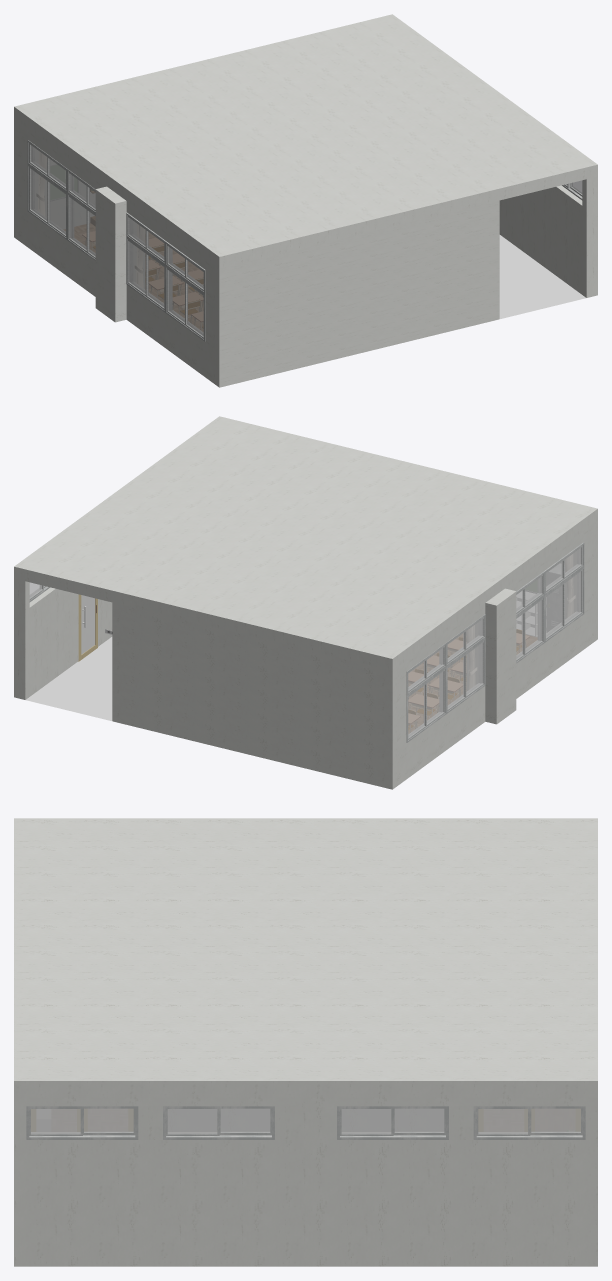
Rendered from classroom1.fbx.
The picture shows the model from 3 angles, top to bottom: view 1: azimuth 30°, elevation 25°; view 2: azimuth 150°, elevation 25°; view 3: azimuth 270°, elevation 25°; orthographic projection. The views are drawn at different scales.
Parts seen in each view (by area): view 1: classroom.hallway.ceiling, classroom.wall.back, classroom.hallway.ceiling.001, classroom.wall.window, wall.hallway, classroom.hallway.floor, classroom.wall.forward, classRoom.window.sash, classRoom.window.sash.001, classRoom.window.sash.003, window.glass.Large.010, window.glass.Large (+7 smaller); view 2: classroom.hallway.ceiling, classroom.wall.forward, classroom.hallway.ceiling.001, classroom.wall.window, wall.hallway, classroom.hallway.floor, classroom.forwardDoor.L.002, classRoom.window.sash.003, classRoom.window.sash, classRoom.window.sash.002, window.glass.Large.010, window.glass.Large.009 (+10 smaller); view 3: classroom.hallway.ceiling, wall.hallway, classroom.hallway.ceiling.001, wall.hallway.window, classroom.wall.door, classroom.forwardDoor.L.001, classroom.forwardDoor.L, classroom.forwardDoor.R.001, classroom.forwardDoor.R.
Boxes of the visible parts, <box> form: classroom.hallway.ceiling: <box>14,38,499,268</box>; classroom.wall.back: <box>215,200,499,387</box>; classroom.hallway.ceiling.001: <box>294,14,597,200</box>; classroom.wall.window: <box>18,122,214,383</box>; wall.hallway: <box>499,176,597,297</box>; classroom.hallway.floor: <box>499,235,586,318</box>; classroom.wall.forward: <box>14,119,95,239</box>; classRoom.window.sash: <box>165,241,205,341</box>; classRoom.window.sash.001: <box>126,212,166,312</box>; classRoom.window.sash.003: <box>27,140,67,239</box>; window.glass.Large.010: <box>47,180,66,237</box>; window.glass.Large: <box>166,268,185,324</box>; classroom.hallway.ceiling: <box>112,440,597,670</box>; classroom.wall.forward: <box>112,602,396,789</box>; classroom.hallway.ceiling.001: <box>14,416,317,602</box>; classroom.wall.window: <box>397,524,593,785</box>; wall.hallway: <box>14,578,112,699</box>; classroom.hallway.floor: <box>25,637,112,720</box>; classroom.forwardDoor.L.002: <box>78,594,97,661</box>; classRoom.window.sash.003: <box>406,643,446,742</box>; classRoom.window.sash: <box>544,542,584,642</box>; classRoom.window.sash.002: <box>446,614,485,713</box>; window.glass.Large.010: <box>426,669,445,726</box>; window.glass.Large.009: <box>447,654,465,711</box>; classroom.hallway.ceiling: <box>14,818,597,1012</box>; wall.hallway: <box>14,1097,597,1266</box>; classroom.hallway.ceiling.001: <box>14,1012,597,1097</box>; wall.hallway.window: <box>26,1106,585,1139</box>; classroom.wall.door: <box>168,1109,443,1131</box>; classroom.forwardDoor.L.001: <box>31,1109,84,1131</box>; classroom.forwardDoor.L: <box>478,1109,531,1131</box>; classroom.forwardDoor.R.001: <box>85,1109,133,1131</box>; classroom.forwardDoor.R: <box>532,1109,580,1131</box>.
Size of the model in its own units: 1030 by 335 by 940.
